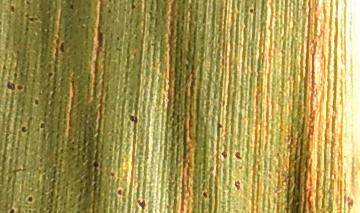tarspot: (56, 37, 70, 59), (216, 146, 233, 163), (124, 112, 142, 127), (231, 178, 245, 196), (113, 184, 127, 200), (232, 147, 245, 164), (22, 192, 38, 205), (24, 11, 40, 24), (133, 197, 150, 209), (4, 79, 17, 94), (29, 93, 42, 108), (19, 122, 31, 138), (37, 120, 50, 134), (87, 158, 101, 171), (197, 188, 211, 200), (212, 120, 226, 132), (107, 168, 118, 180), (25, 114, 36, 125), (66, 1, 77, 12), (16, 81, 26, 93), (128, 2, 138, 13), (45, 70, 55, 80), (247, 6, 257, 16), (104, 6, 113, 17), (9, 70, 20, 79), (6, 206, 20, 213), (8, 3, 16, 14)
